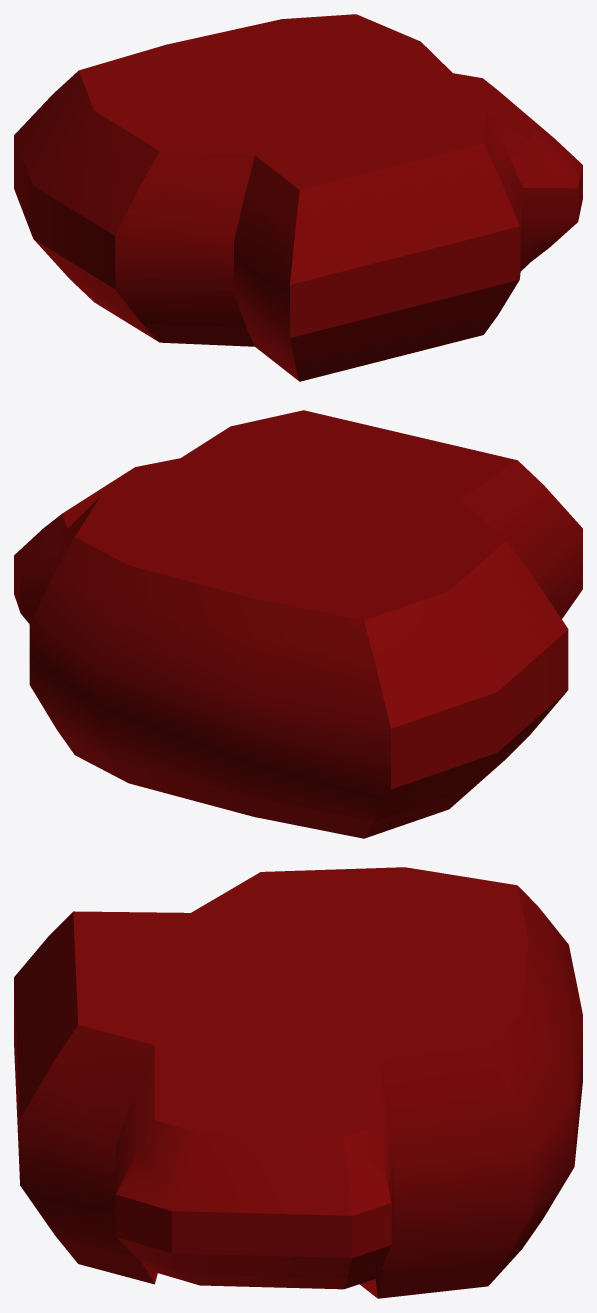
Rendered from PowerPunchMaskOrb.fbx.
3 renders of one model, top to bottom at view 1: azimuth 30°, elevation 25°; view 2: azimuth 150°, elevation 25°; view 3: azimuth 270°, elevation 25°, orthographic. The views are drawn at different scales.
Parts seen in each view (by area): view 1: Powerpunchorb; view 2: Powerpunchorb; view 3: Powerpunchorb.
Boxes of the visible parts, bbox=[...] form: Powerpunchorb: bbox=[14, 14, 582, 381]; Powerpunchorb: bbox=[14, 410, 582, 838]; Powerpunchorb: bbox=[14, 867, 582, 1298].
Size of the model in its own units: 97.95 by 39.43 by 84.99.
